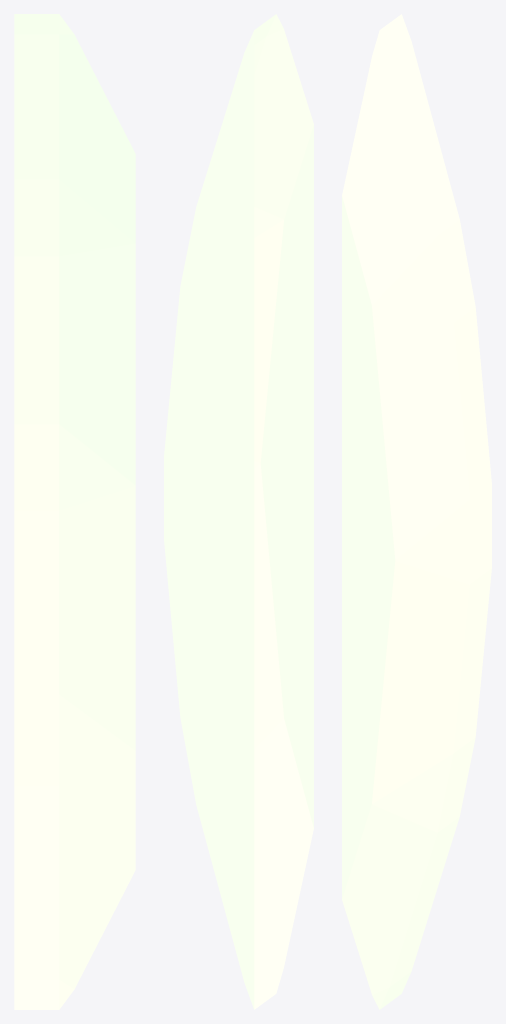
The model's file is door_outer_light.glb.
The picture shows the model from 3 angles, left to right: view 1: azimuth 90°, elevation 25°; view 2: azimuth 150°, elevation 25°; view 3: azimuth 330°, elevation 25°; orthographic projection.
Parts seen in each view (by area): view 1: DoorOutsideLight; view 2: DoorOutsideLight; view 3: DoorOutsideLight.
Boxes of the visible parts, x1,y1,x2,y2 form: DoorOutsideLight: (14,14,135,1009); DoorOutsideLight: (164,14,313,1009); DoorOutsideLight: (342,14,491,1009).
Bounding box in the file's own units: 0.0286 × 0.2966 × 0.0328.
